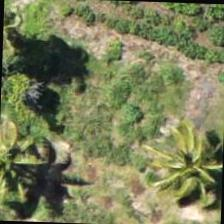Kelapa_Sawit: (145, 112, 223, 206), (0, 121, 47, 214)
